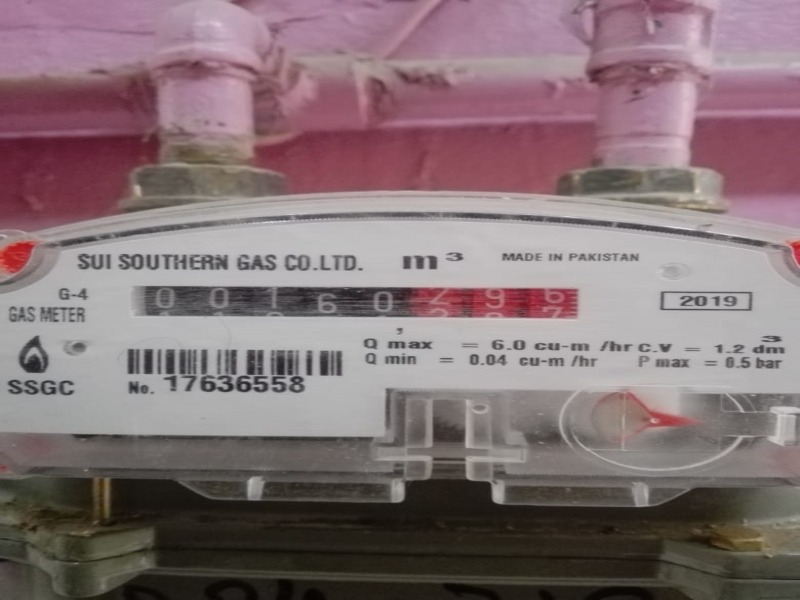ssgc: (127, 282, 582, 323)
